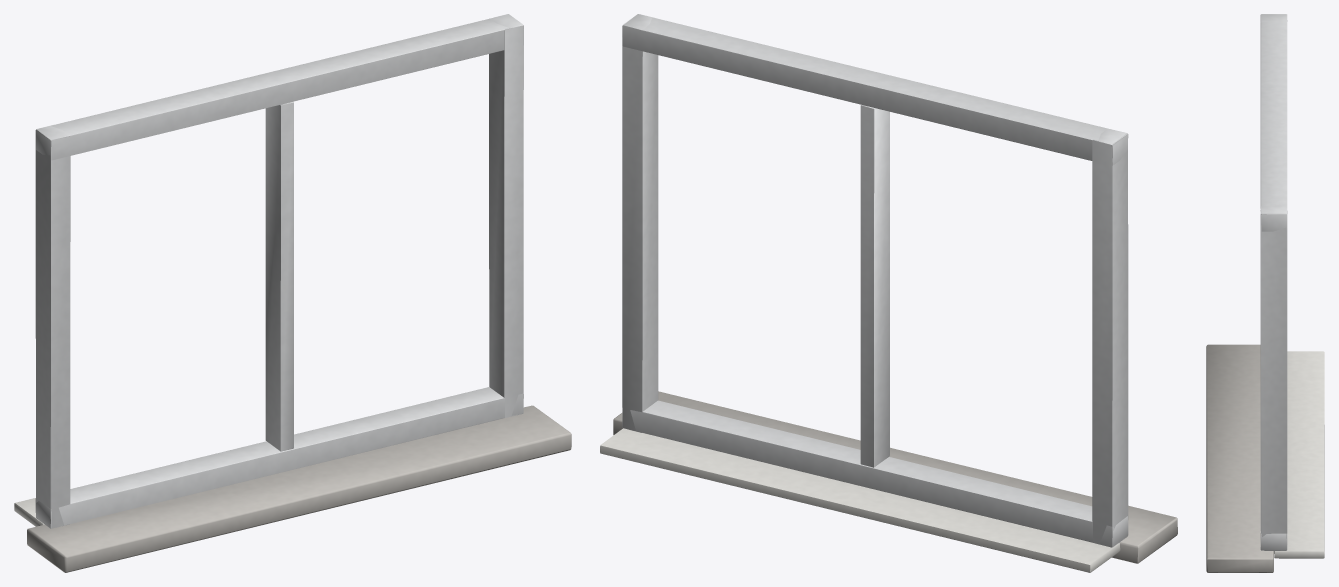
Rendered from SM_WindowFrame_LOD1.fbx.
3 views of the same model, side by side, from view 1: azimuth 30°, elevation 25°; view 2: azimuth 150°, elevation 25°; view 3: azimuth 270°, elevation 25° (orthographic). The views are drawn at different scales.
Parts seen in each view (by area): view 1: SM_WindowFrame_LOD1; view 2: SM_WindowFrame_LOD1; view 3: SM_WindowFrame_LOD1.
Boxes of the visible parts, <box> form: SM_WindowFrame_LOD1: <box>14,14,571,572</box>; SM_WindowFrame_LOD1: <box>600,14,1177,572</box>; SM_WindowFrame_LOD1: <box>1206,14,1324,572</box>.
Bounding box in the file's own units: 1.5 × 1.15 × 0.3493.
1 material, 1 textured.
